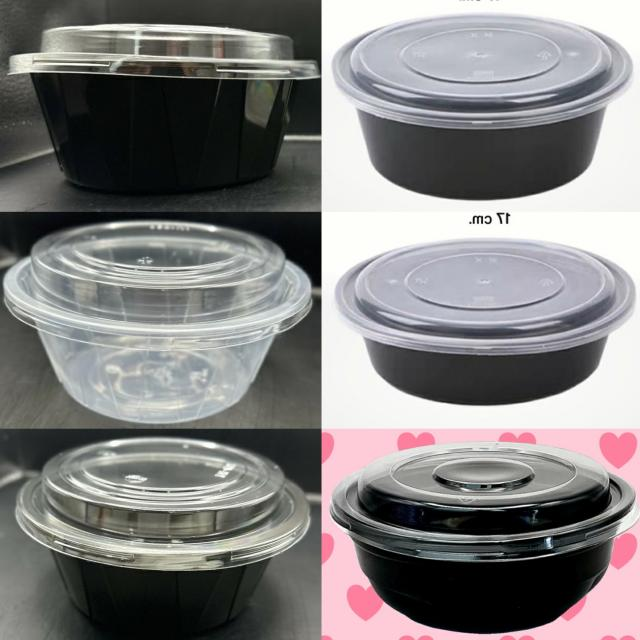plastik: (4, 221, 312, 424), (330, 441, 639, 634), (16, 437, 310, 635), (333, 13, 633, 200), (10, 24, 320, 193), (335, 239, 635, 404)
